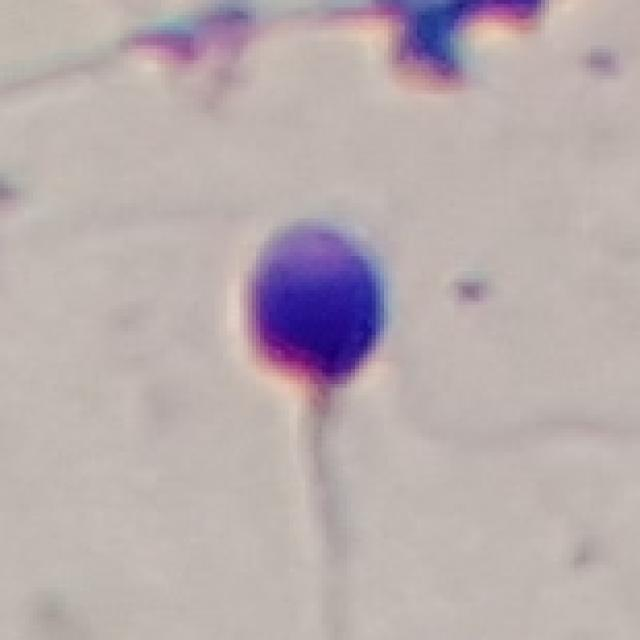normal sperm: (221, 206, 402, 595)
